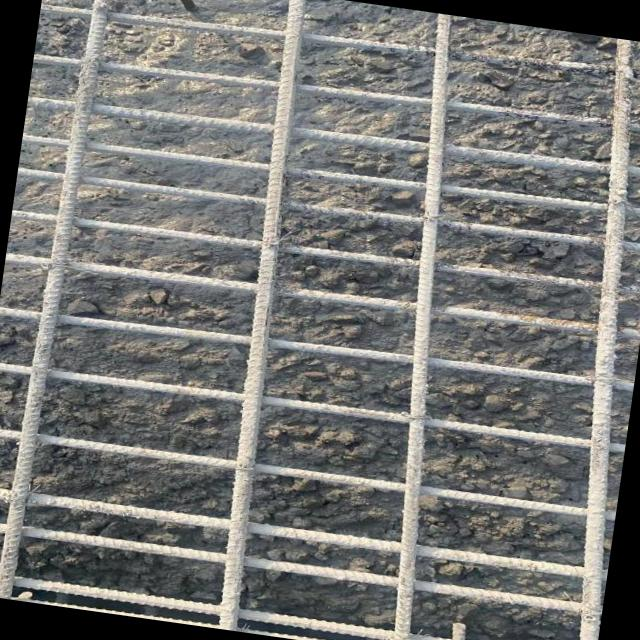ribbed bar: (347, 13, 496, 640), (199, 0, 326, 630), (4, 239, 640, 354), (26, 81, 640, 198), (0, 293, 633, 406), (21, 120, 640, 233), (33, 36, 640, 151), (0, 0, 115, 600), (11, 198, 640, 307), (17, 155, 640, 265), (528, 39, 640, 640), (0, 353, 625, 460), (0, 481, 607, 586), (0, 423, 615, 526), (0, 516, 602, 619), (40, 0, 640, 103), (0, 568, 579, 640)
